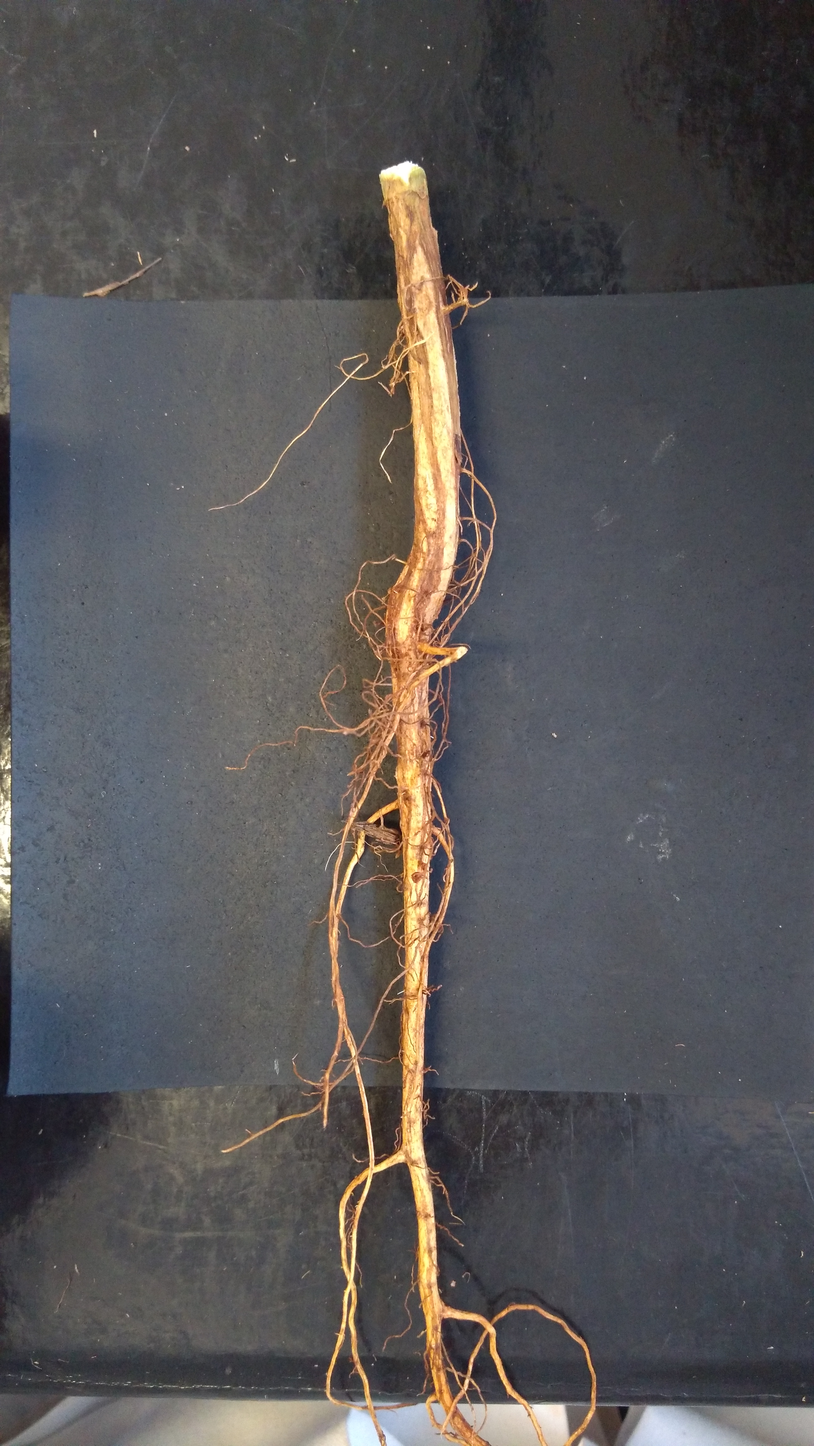nodule: (429, 913, 444, 933), (369, 732, 382, 746), (411, 871, 423, 884), (432, 827, 442, 837), (385, 693, 393, 702), (372, 620, 378, 627), (450, 1280, 456, 1287), (387, 587, 392, 594)
